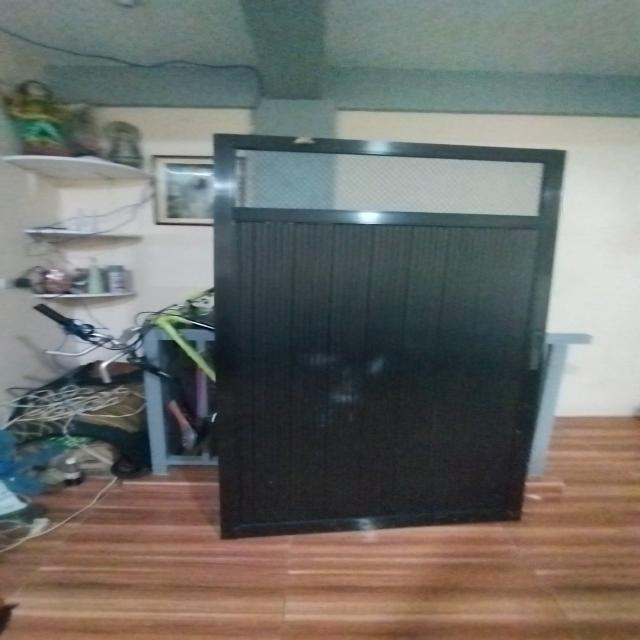door: (201, 126, 570, 544)
